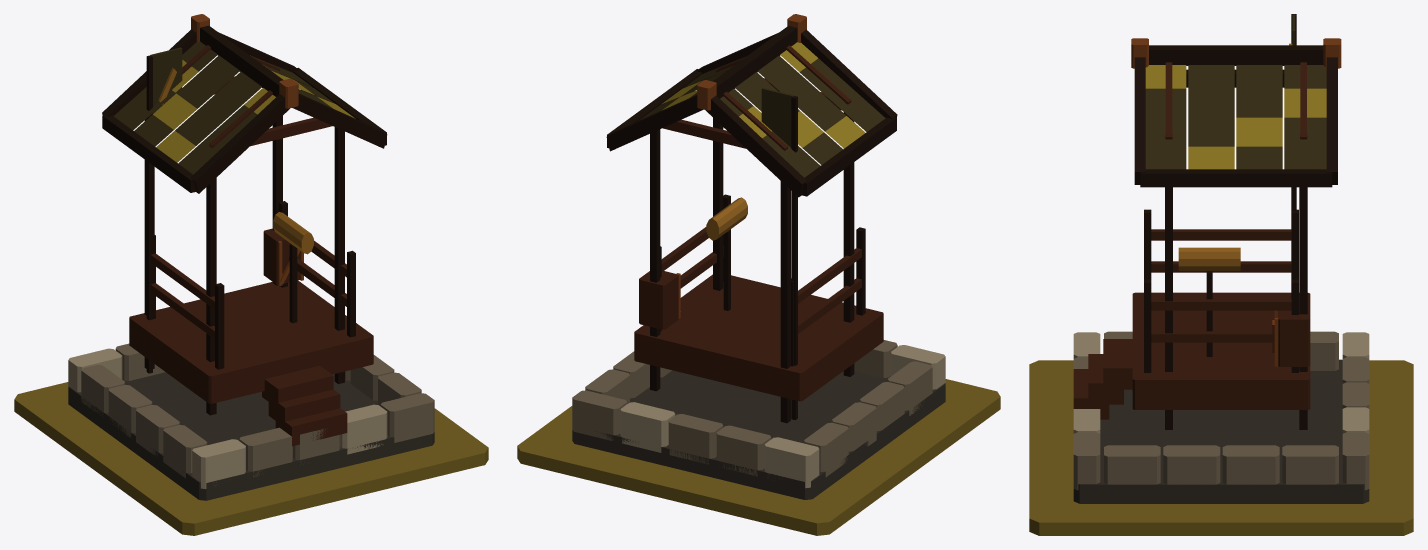
The model's file is scout_post_t4.glb.
The picture shows the model from 3 angles, left to right: view 1: azimuth 30°, elevation 25°; view 2: azimuth 150°, elevation 25°; view 3: azimuth 270°, elevation 25°; orthographic projection. The views are drawn at different scales.
Visible parts, largest first — view 1: MMR | scout_post | T04 Architecture.001, MMR | scout_post | Tier 04 Ground.001; view 2: MMR | scout_post | T04 Architecture.001, MMR | scout_post | Tier 04 Ground.001; view 3: MMR | scout_post | T04 Architecture.001, MMR | scout_post | Tier 04 Ground.001.
Part boxes in pixels (x1=…): MMR | scout_post | T04 Architecture.001: x1=68, y1=14, x2=434, y2=500; MMR | scout_post | Tier 04 Ground.001: x1=14, y1=382, x2=488, y2=535; MMR | scout_post | T04 Architecture.001: x1=572, y1=14, x2=945, y2=499; MMR | scout_post | Tier 04 Ground.001: x1=517, y1=379, x2=1000, y2=535; MMR | scout_post | T04 Architecture.001: x1=1073, y1=14, x2=1369, y2=503; MMR | scout_post | Tier 04 Ground.001: x1=1029, y1=360, x2=1413, y2=535.
Bounding box in the file's own units: 1.3 × 1.54 × 1.3.
Materials: 1 (1 with a texture image).
